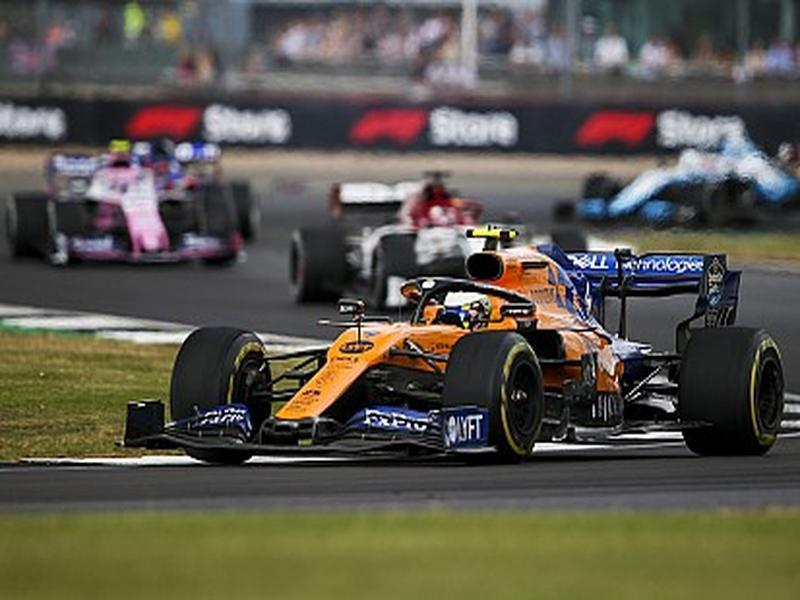f1: (154, 232, 780, 516), (303, 154, 603, 325)
